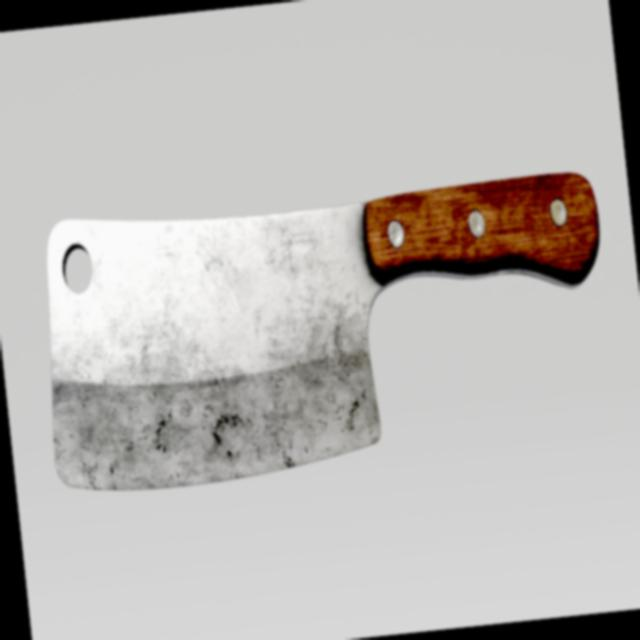cleaver: (31, 156, 624, 502)
